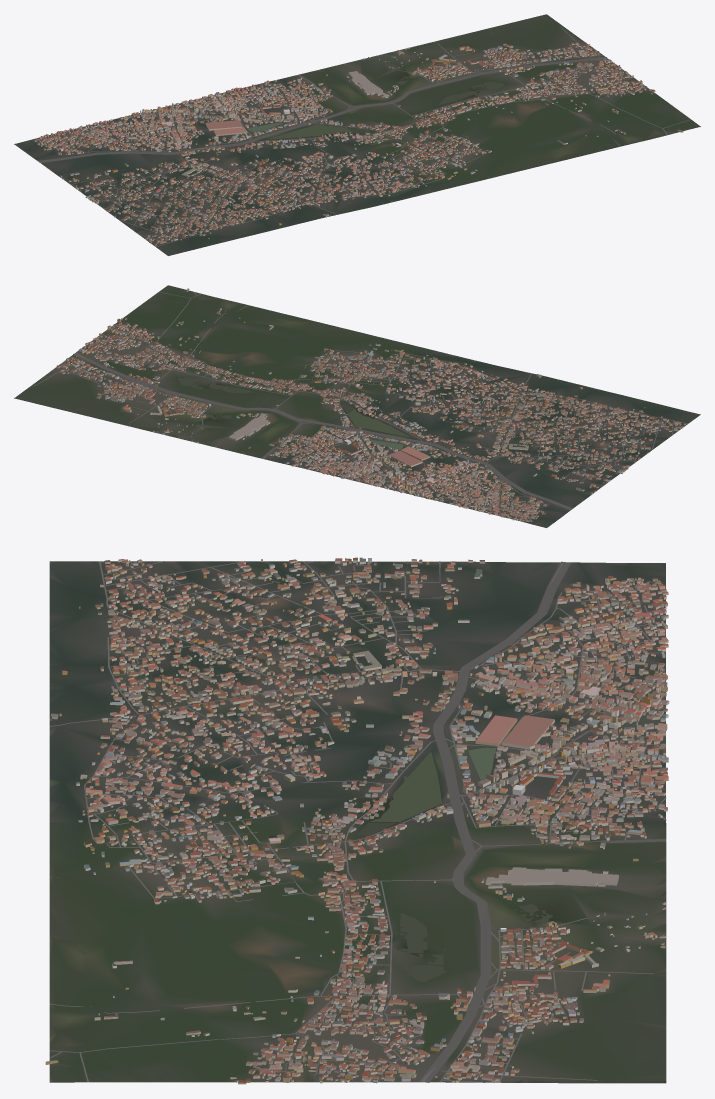
The picture shows the model from 3 angles, top to bottom: view 1: azimuth 30°, elevation 25°; view 2: azimuth 150°, elevation 25°; view 3: azimuth 270°, elevation 25°; orthographic projection. The views are drawn at different scales.
Visible parts, largest first — view 1: ground, buildings, roads, water; view 2: ground, buildings, roads, water; view 3: ground, buildings, roads, water.
Boxes of the visible parts, left/top/right/bottom form: ground: left=14, top=14, right=700, bottom=255; buildings: left=34, top=42, right=683, bottom=245; roads: left=37, top=27, right=690, bottom=246; water: left=247, top=75, right=632, bottom=193; ground: left=14, top=285, right=700, bottom=527; buildings: left=56, top=288, right=685, bottom=521; roads: left=34, top=291, right=687, bottom=521; water: left=147, top=303, right=410, bottom=450; ground: left=49, top=561, right=666, bottom=1083; buildings: left=45, top=557, right=669, bottom=1084; roads: left=49, top=561, right=666, bottom=1082; water: left=62, top=747, right=552, bottom=1020.
Bounding box in the file's own units: 2817 × 29.41 × 1419.
